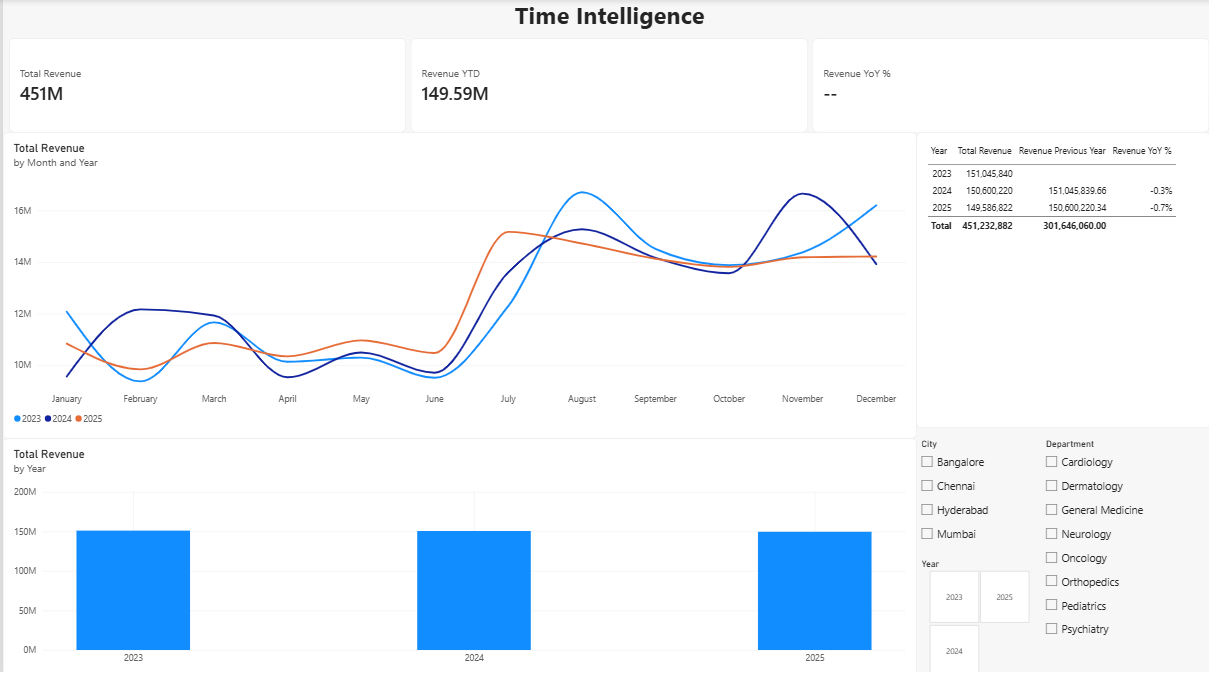

The page's visual inventory and layout, read from the dashboard file:
{"tool":"powerbi","page":{"name":"Page 4","canvas":[1920,1080],"ordinal":3},"visuals":[{"type":"textbox","box":[9.5,0,1911.1,62],"z":0},{"type":"cardVisual","fields":{"Data":["Measure_Table.Total Revenue","Measure_Table.Revenue YTD","Measure_Table.Revenue YoY %"]},"box":[9.5,62,1910,150],"z":1},{"type":"clusteredColumnChart","fields":{"Category":["Dim_Date.Year"],"Y":["Measure_Table.Total Revenue"]},"box":[0,699.1,1453,381.7],"z":2},{"type":"lineChart","fields":{"Category":["Dim_Date.Month"],"Series":["Dim_Date.Year"],"Y":["Measure_Table.Total Revenue"]},"box":[0,212.3,1453,486.7],"z":3},{"type":"slicer","fields":{"Values":["Dim_City.City"]},"box":[1453,699.1,198,190.9],"z":4},{"type":"slicer","fields":{"Values":["Dim_Department.Department"]},"box":[1651.1,699.1,269.6,381.7],"z":5},{"type":"tableEx","fields":{"Values":["Dim_Date.Year","Measure_Table.Total Revenue","Measure_Table.Revenue Previous Year","Measure_Table.Revenue YoY %"]},"box":[1453,212.3,467.6,470],"z":6},{"type":"slicer","fields":{"Values":["Dim_Date.Year"]},"box":[1453,890,198,190],"z":7}]}

Visuals, with their boxes in screenshot pixels (x1, y1, x2, y2), scaled from the page's 1920x1080 canvas onto the 1216x699 screenshot:
textbox: region(6, 0, 1215, 40)
cardVisual - Measure_Table.Total Revenue x Measure_Table.Revenue YTD: region(6, 40, 1215, 137)
clusteredColumnChart - Dim_Date.Year x Measure_Table.Total Revenue: region(0, 452, 920, 698)
lineChart - Dim_Date.Month x Dim_Date.Year: region(0, 137, 920, 452)
slicer - Dim_City.City: region(920, 452, 1046, 576)
slicer - Dim_Department.Department: region(1046, 452, 1215, 698)
tableEx - Dim_Date.Year x Measure_Table.Total Revenue: region(920, 137, 1215, 442)
slicer - Dim_Date.Year: region(920, 576, 1046, 698)
